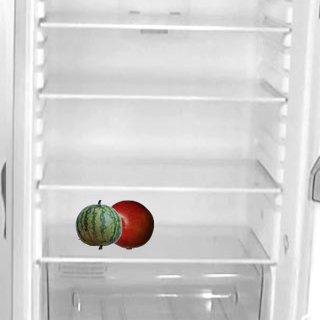Apple Braeburn: (103, 199, 153, 249)
Watermelon: (73, 199, 123, 249)
